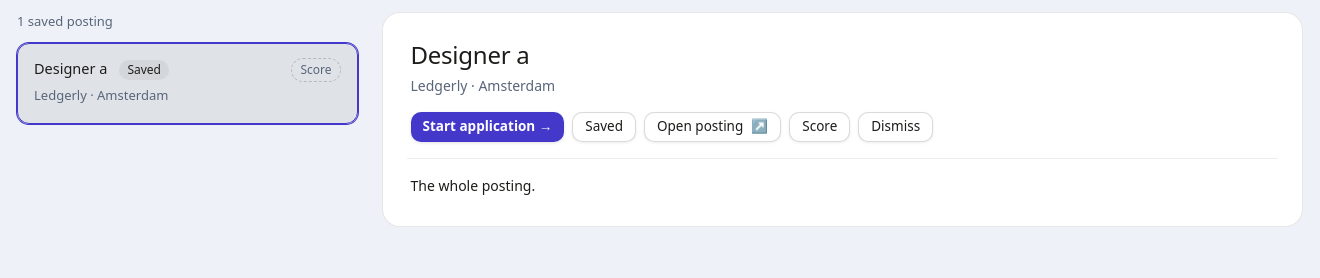
Score in Claude (#221) › closes the waiting tab when JobAssist scores it after all
The image size is (1320, 278).
Click the button "Score" next to "Open posting": (820, 127) x1=789 y1=112 x2=850 y2=142
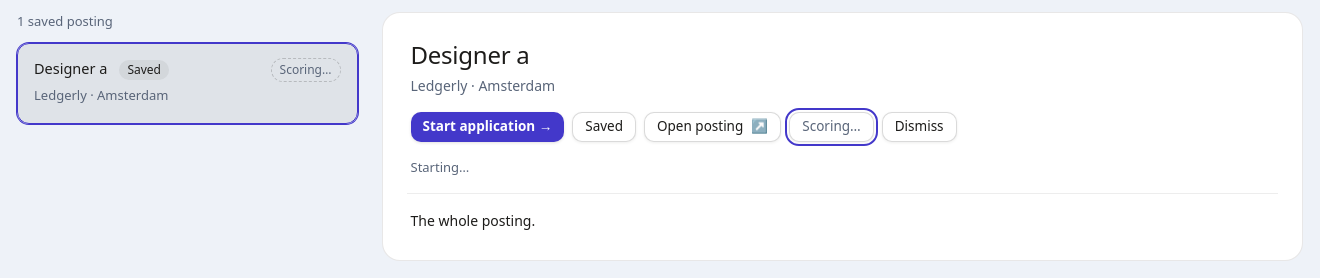
Now the button "Scoring…" next to "Open posting" is shown, box x1=789 y1=112 x2=874 y2=142
